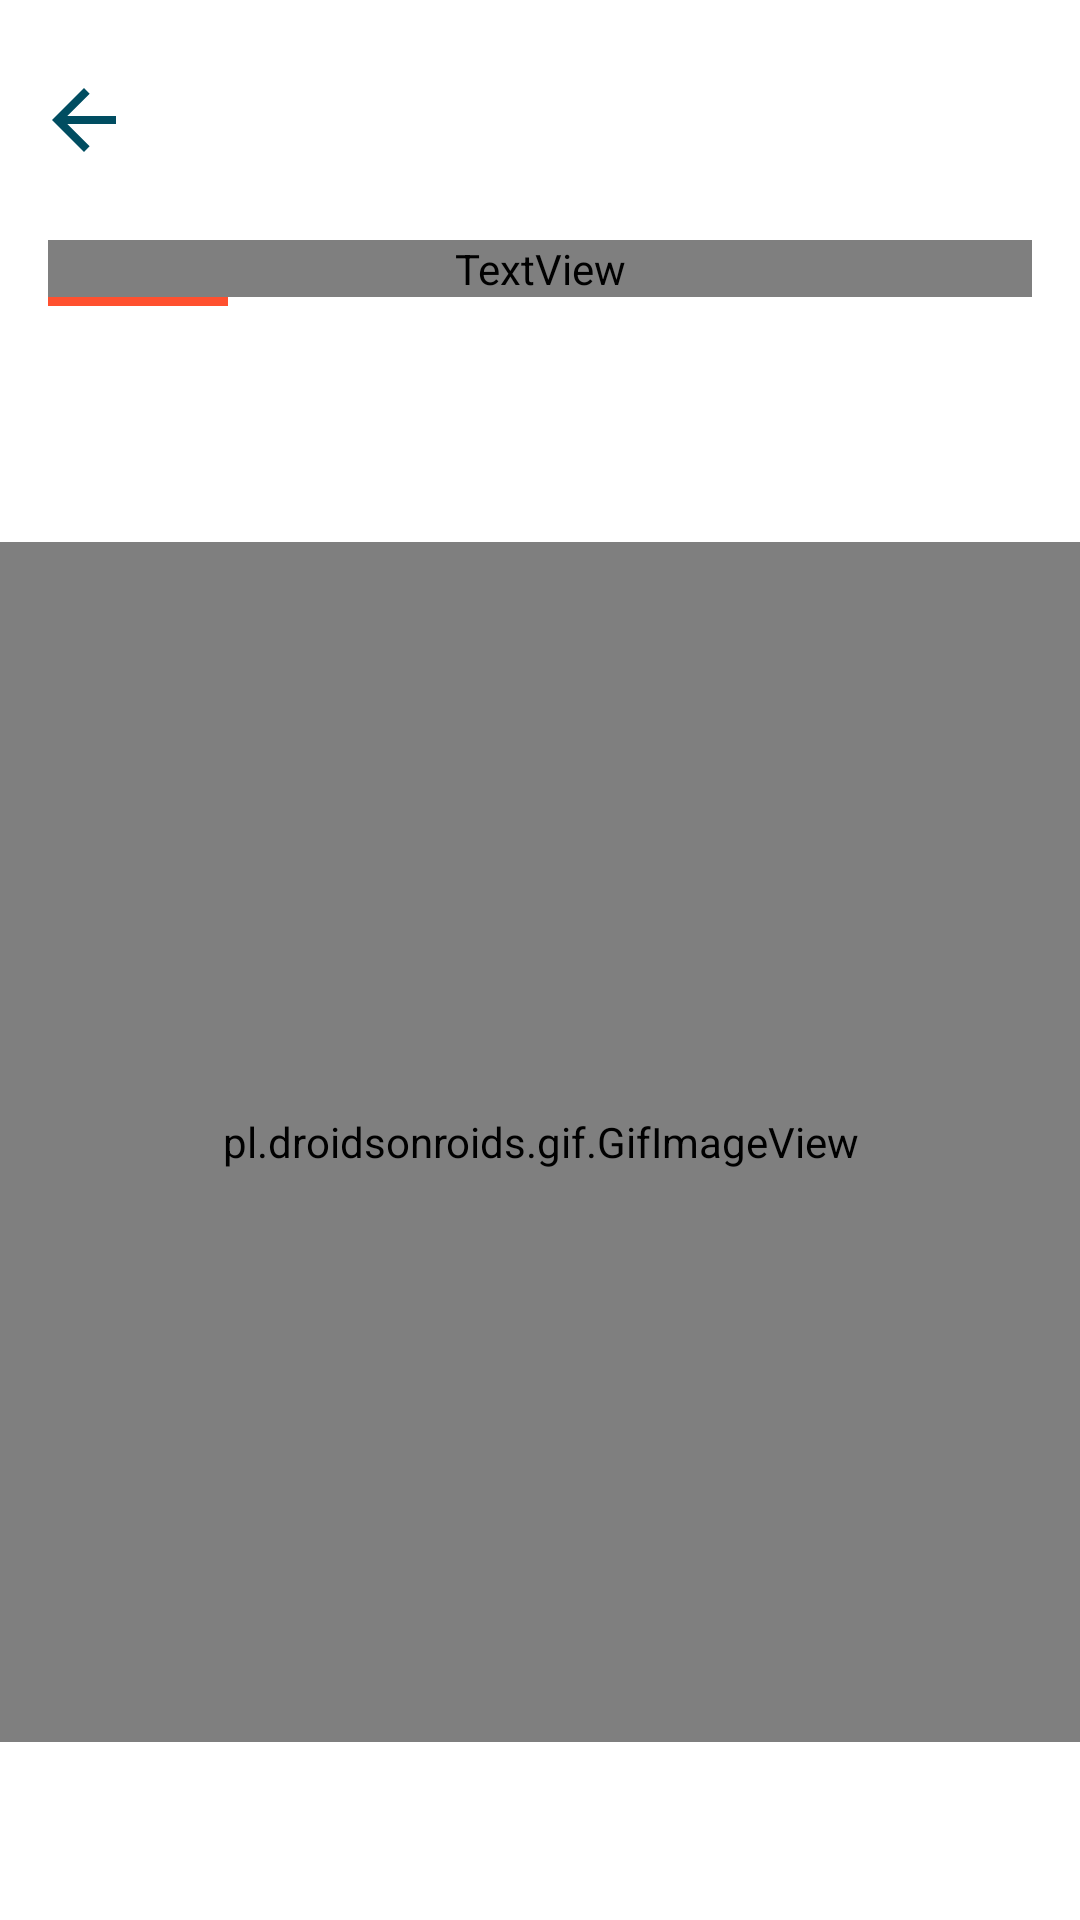

Screen size 1080 x 1920. Icon name, then its box in pixels as [x1=x1, y1=y1, x2=x2, y2=y2]:
arrow back: [x1=52, y1=88, x2=116, y2=152]
